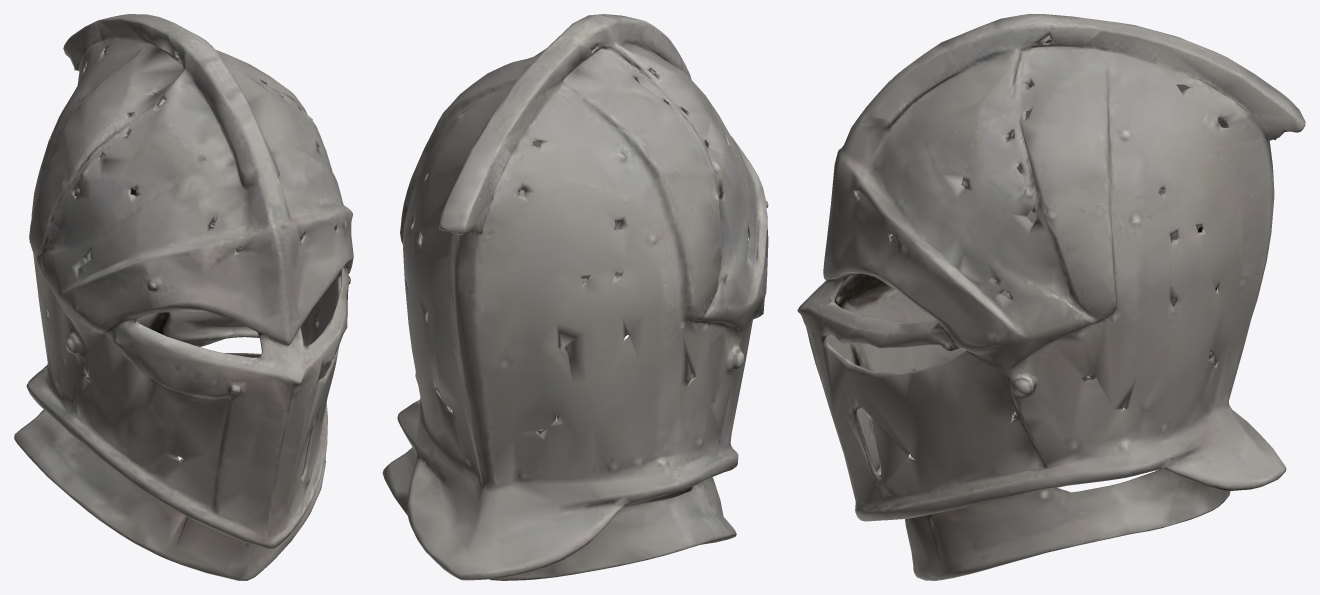
Rendered from comum-elmo.glb.
3 views of the same model, side by side, from view 1: azimuth 30°, elevation 25°; view 2: azimuth 150°, elevation 25°; view 3: azimuth 270°, elevation 25° (orthographic). The views are drawn at different scales.
Parts seen in each view (by area): view 1: tripo_node_c804bc7e-4e93-47c4-9899-57afcf9bd331; view 2: tripo_node_c804bc7e-4e93-47c4-9899-57afcf9bd331; view 3: tripo_node_c804bc7e-4e93-47c4-9899-57afcf9bd331.
Boxes of the visible parts, <box> form: tripo_node_c804bc7e-4e93-47c4-9899-57afcf9bd331: <box>14,14,353,580</box>; tripo_node_c804bc7e-4e93-47c4-9899-57afcf9bd331: <box>382,14,768,580</box>; tripo_node_c804bc7e-4e93-47c4-9899-57afcf9bd331: <box>797,14,1305,580</box>.
Bounding box in the file's own units: 0.5732 × 0.9753 × 0.8069.
Materials: 1 (1 with a texture image).
